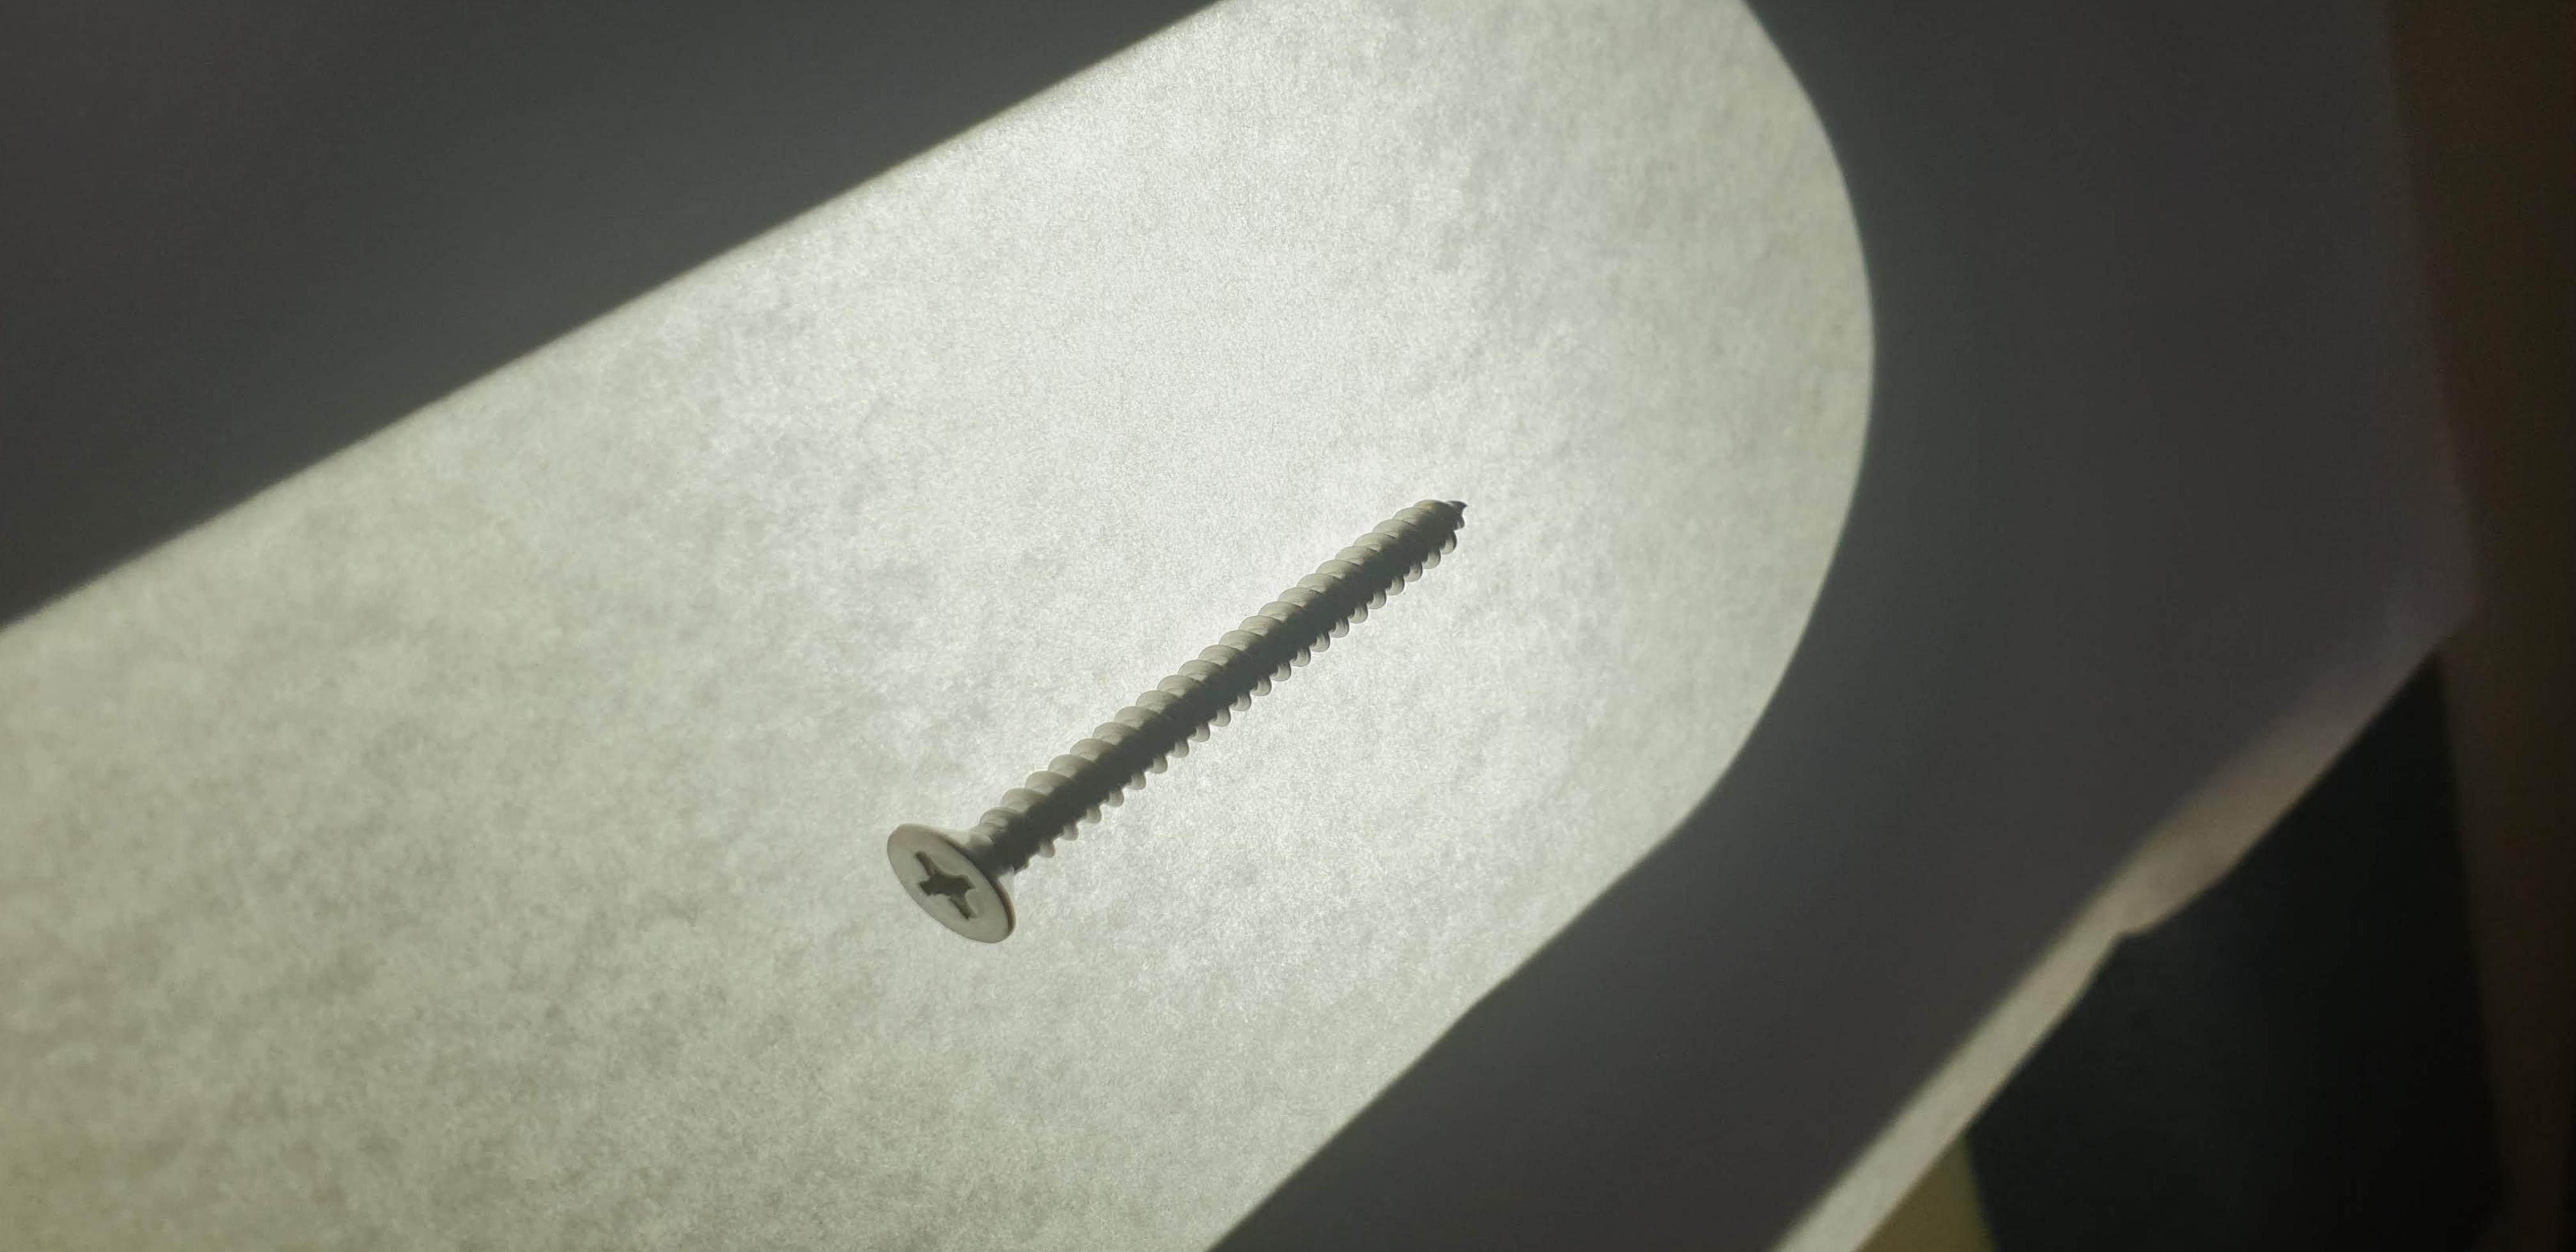S001: (849, 478, 1523, 964)
